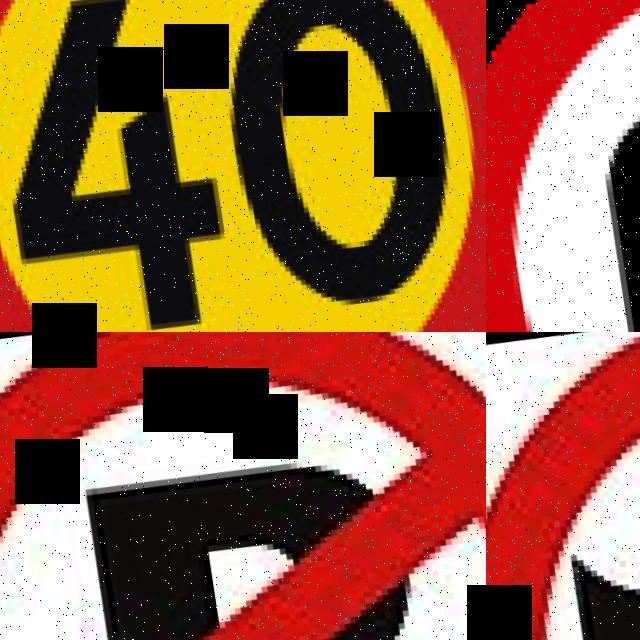55: (0, 0, 486, 332)
Horn prohibited: (486, 332, 640, 640)
No parking: (0, 332, 486, 640)
speed limit-60: (486, 0, 640, 332)
